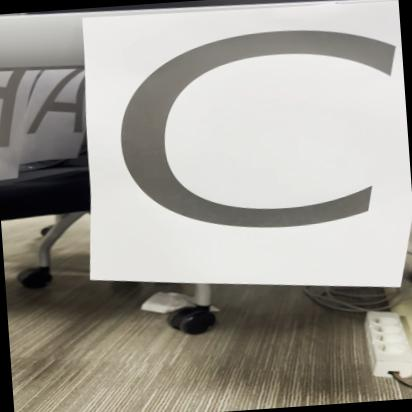seat: (80, 0, 412, 319)
